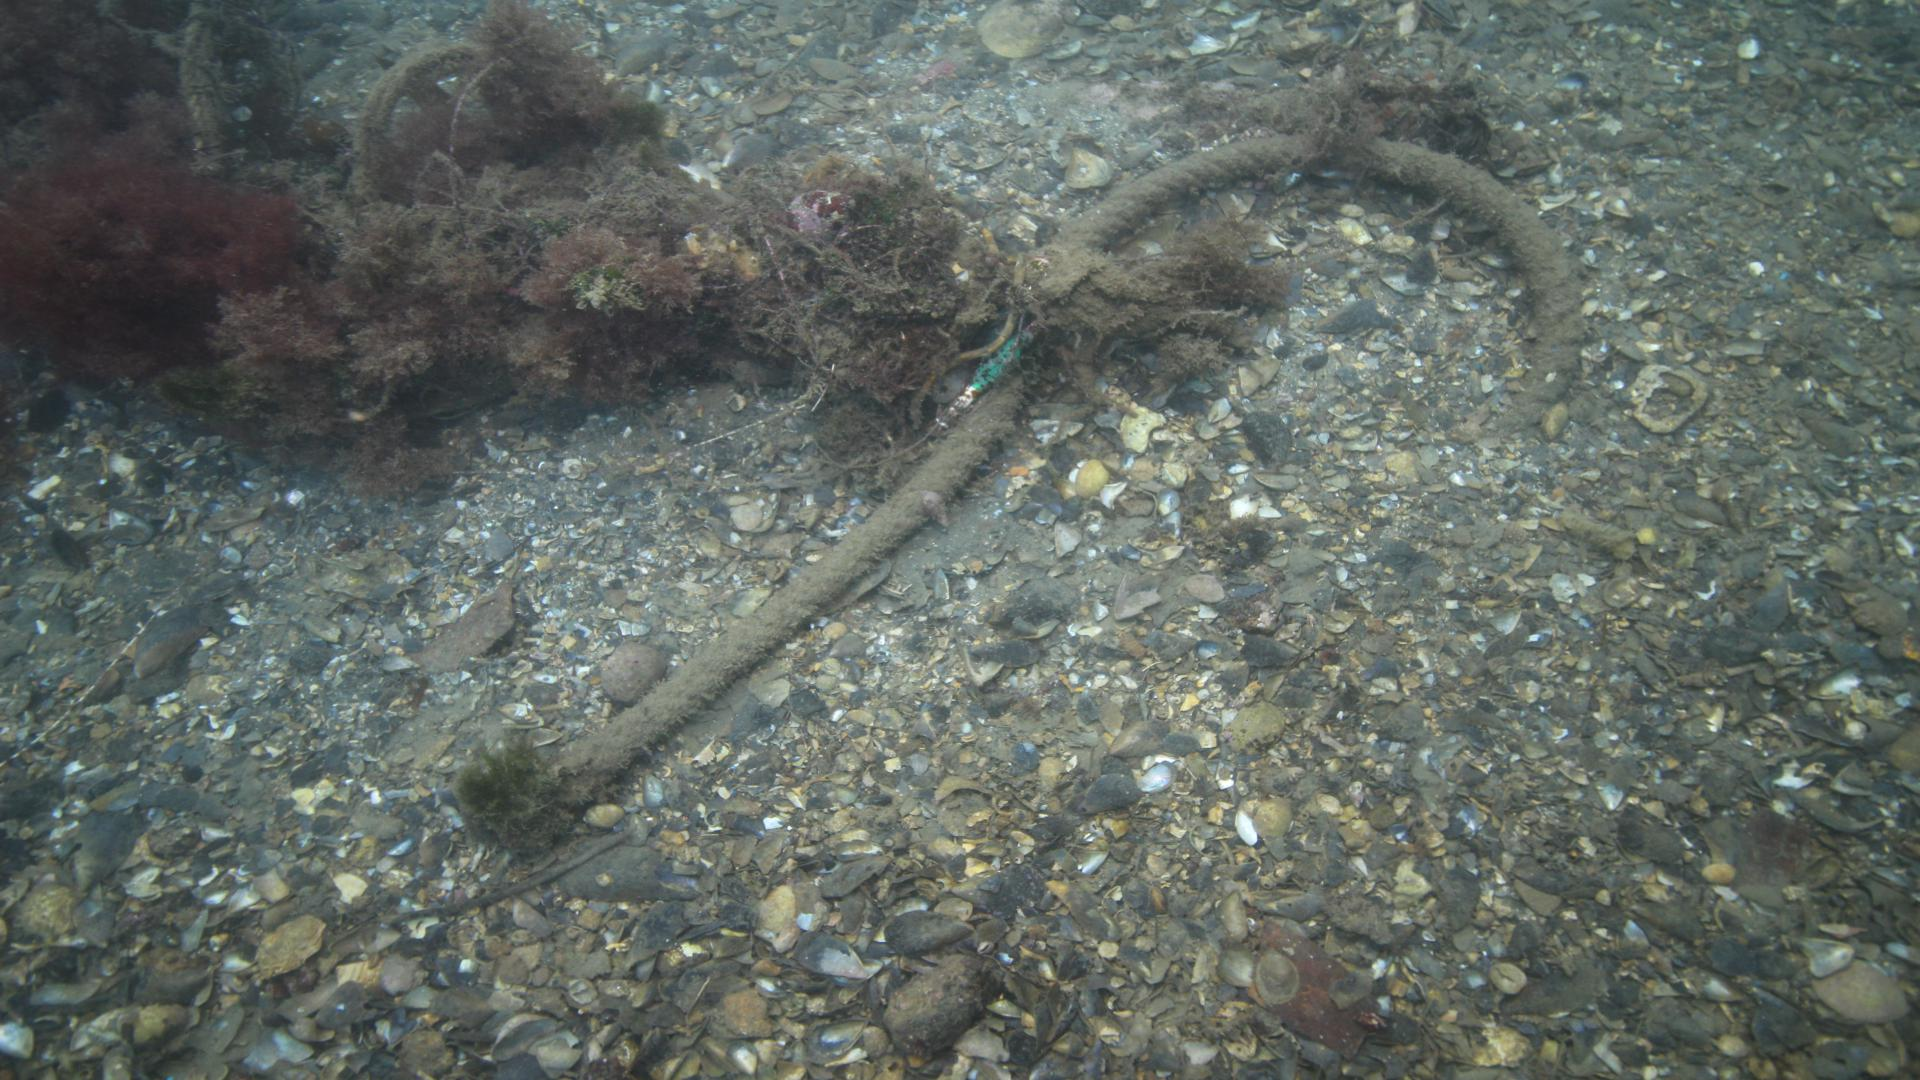rope: (563, 124, 1589, 783)
